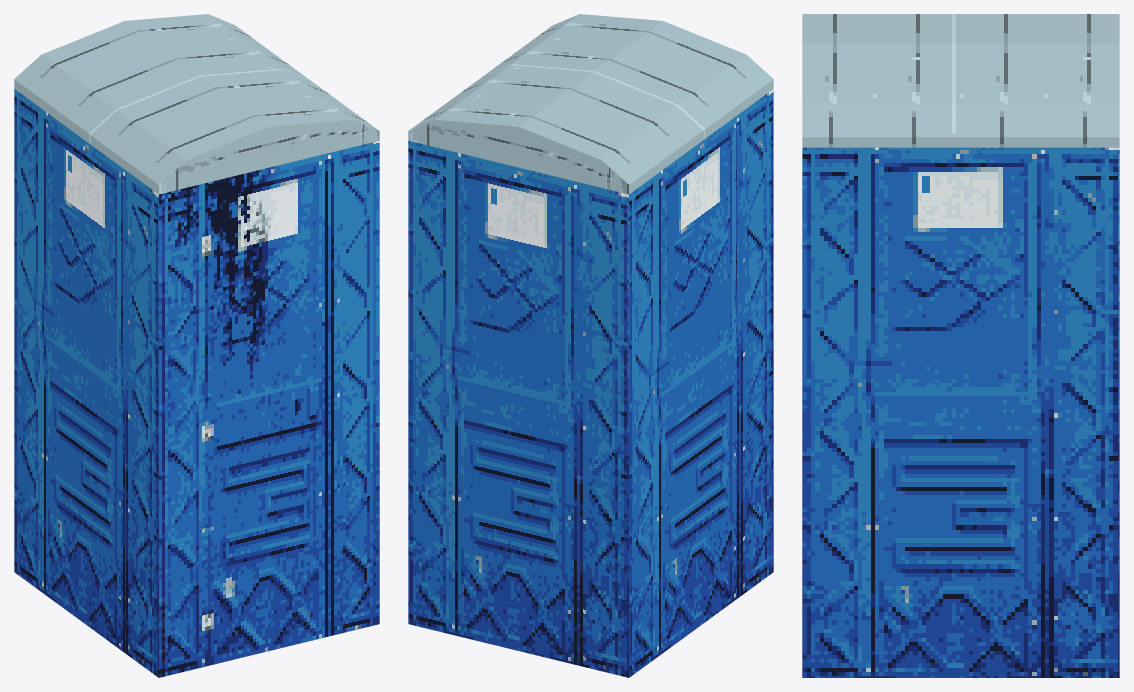
The model's file is ps1_style_toilete.glb.
The picture shows the model from 3 angles, left to right: view 1: azimuth 30°, elevation 25°; view 2: azimuth 150°, elevation 25°; view 3: azimuth 270°, elevation 25°; orthographic projection. The views are drawn at different scales.
Parts seen in each view (by area): view 1: Cube; view 2: Cube; view 3: Cube.
Part boxes in pixels (box(x1,y1,x2,y2)): Cube: box(14, 14, 379, 677); Cube: box(408, 14, 773, 677); Cube: box(802, 14, 1119, 677).
Bounding box in the file's own units: 1.03 × 2.34 × 1.17.
Materials: 1 (1 with a texture image).
